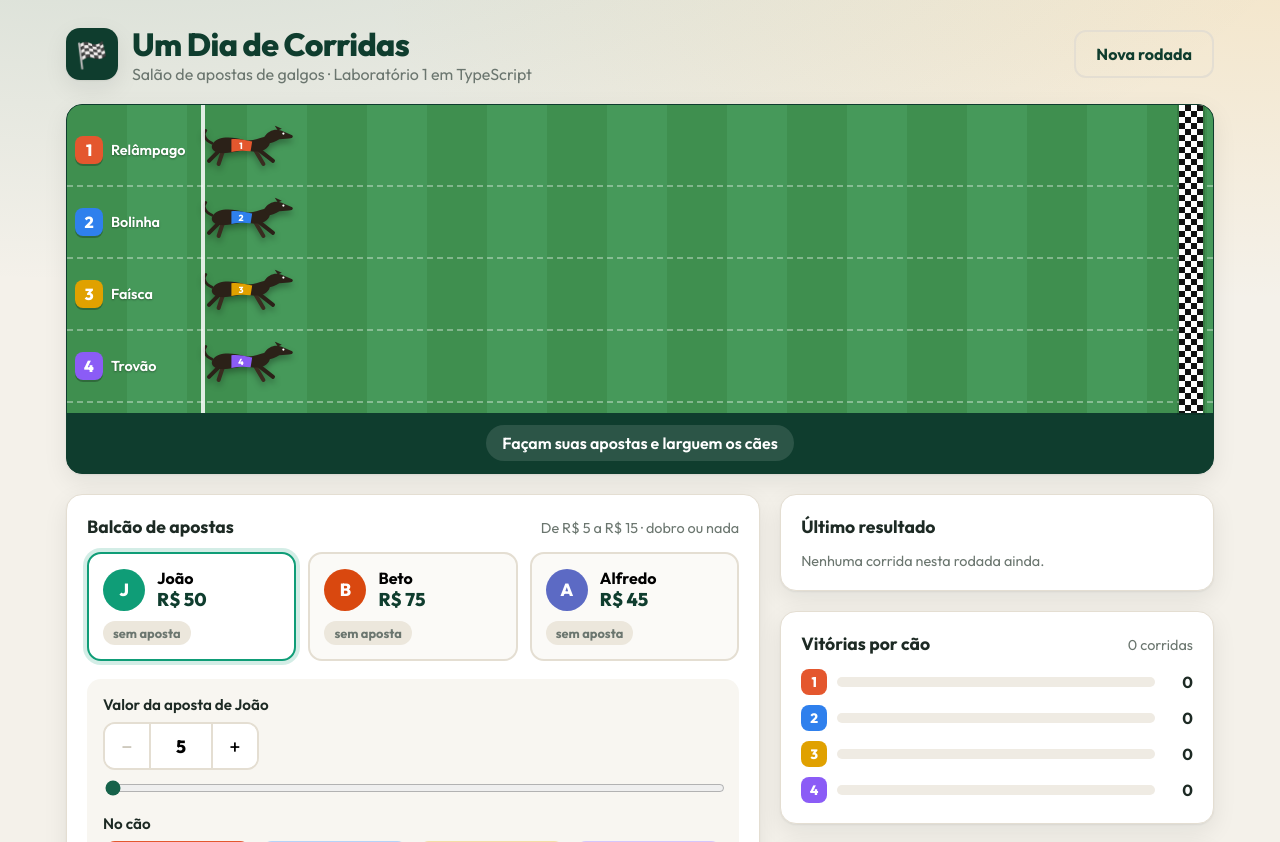
Scenario: corrida › "Nova rodada" devolve os saldos iniciais e limpa o último resultado
Click the radio button labelled "J João R$ 50 sem aposta" at (192, 606), box [87,552,296,661]
(page scrolled)
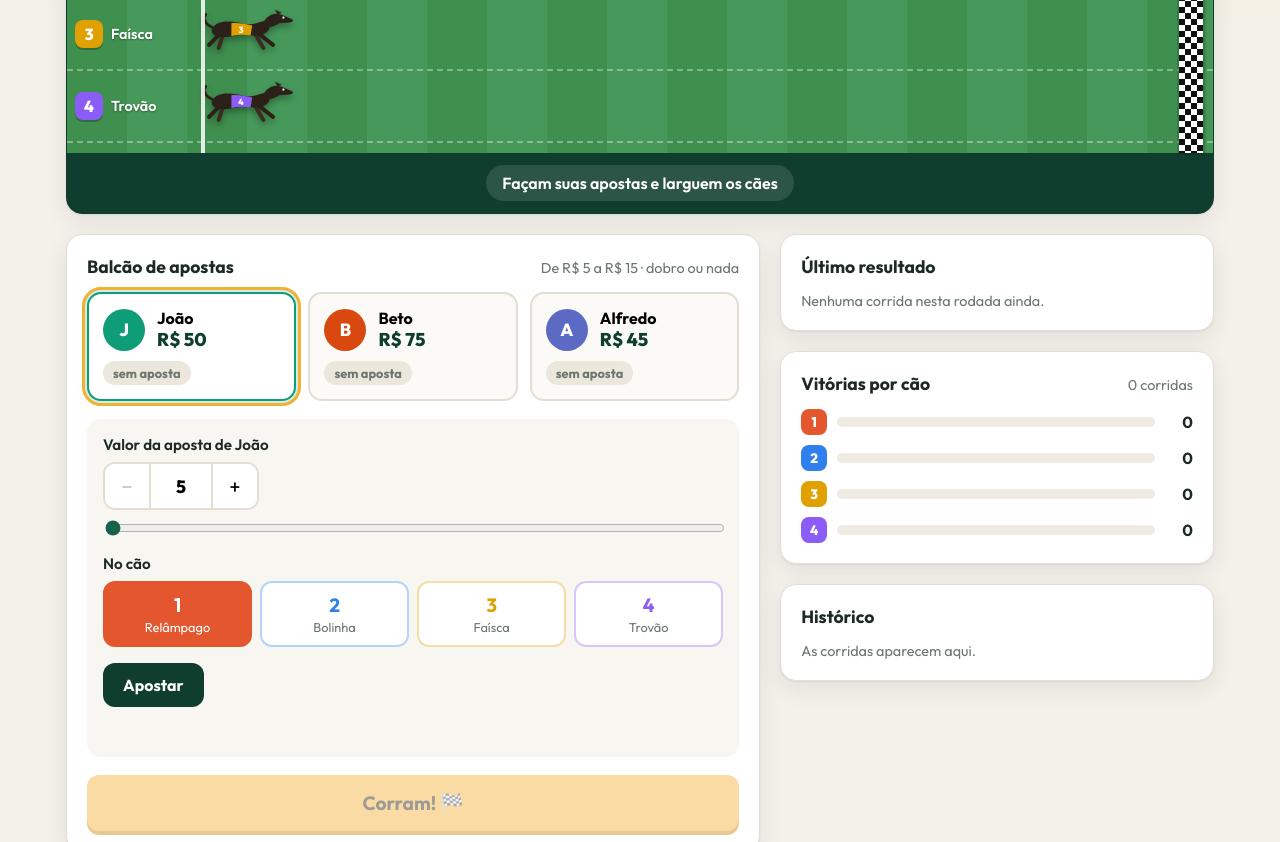
Click the radio button labelled "1 Relâmpago" at (178, 614), box [103,581,252,647]
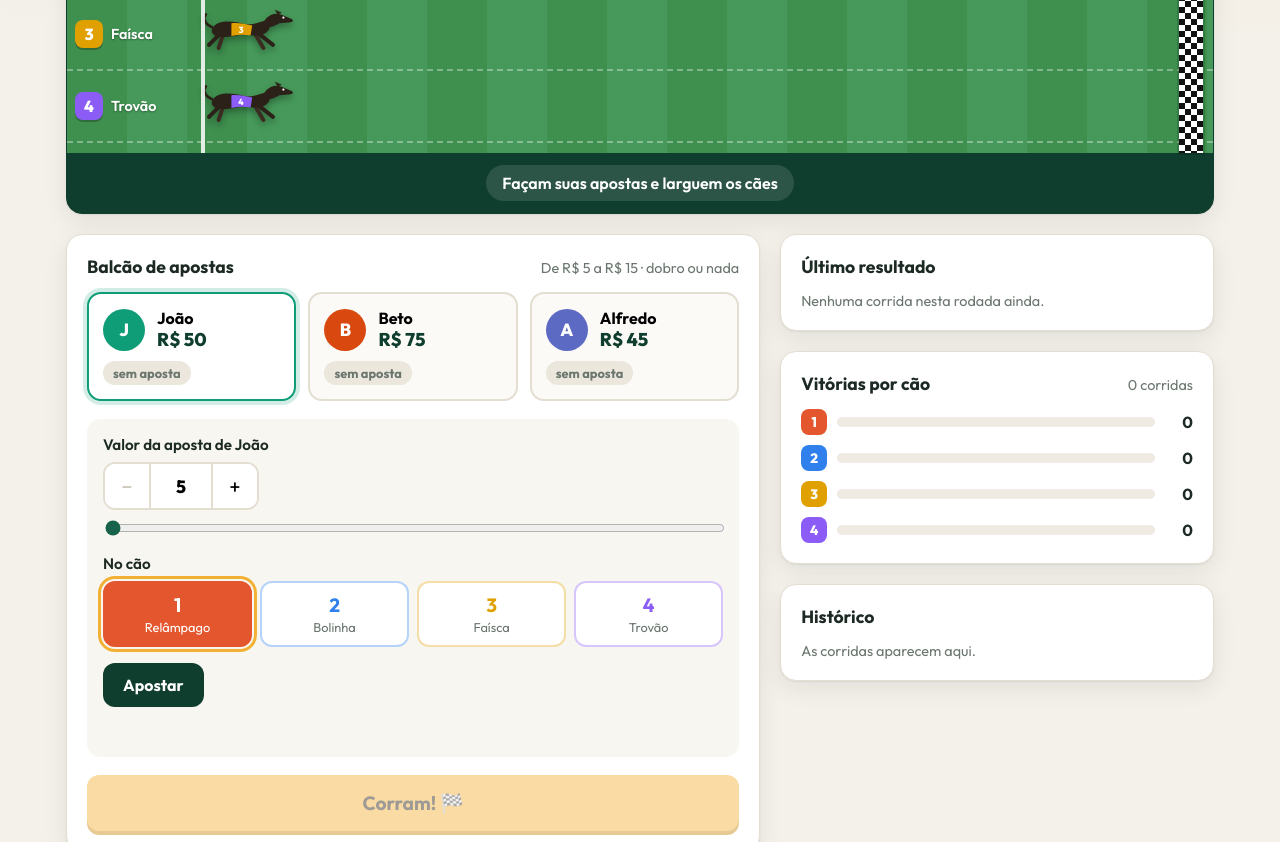
Replace the text in the number field with "15" at (181, 486), box [149,464,213,508]
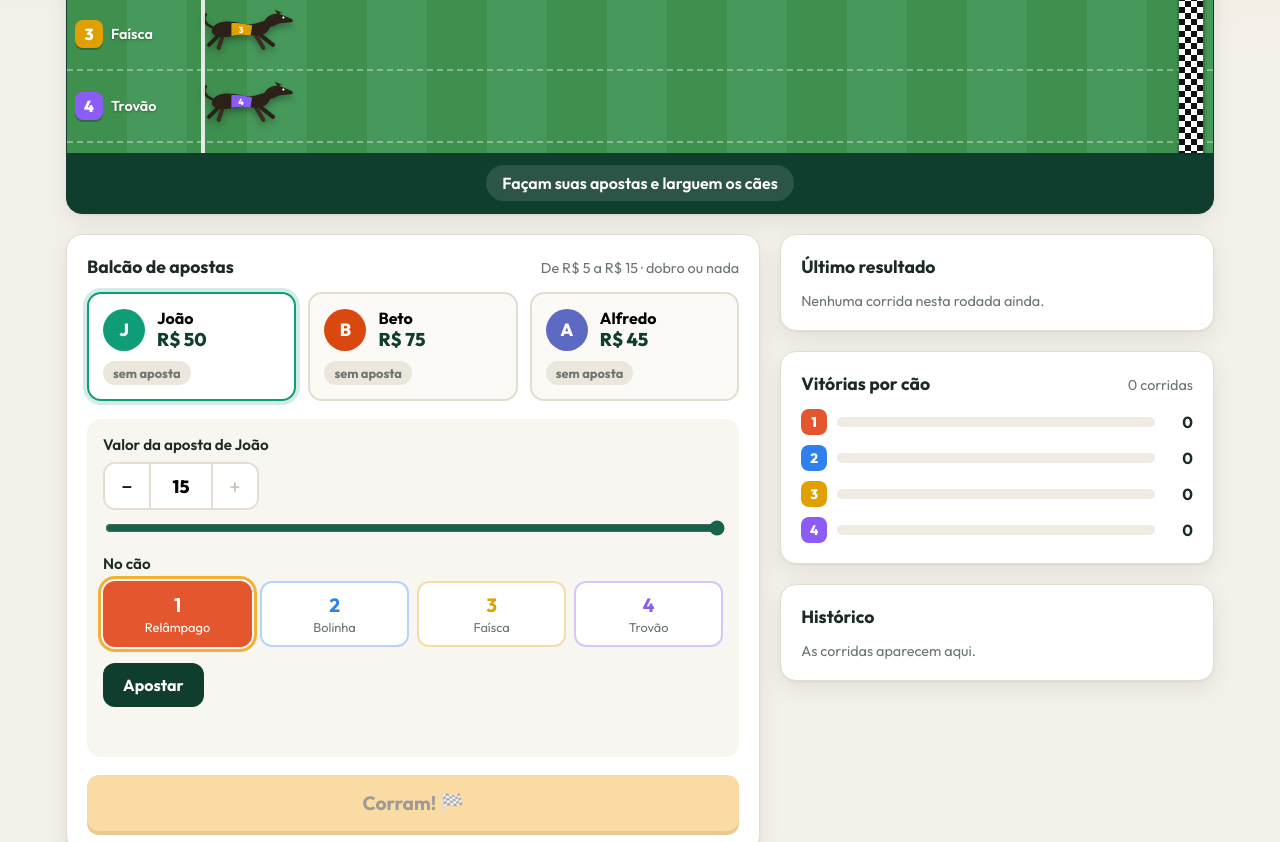
Click the button "Apostar" at (153, 685), box [103,663,204,707]
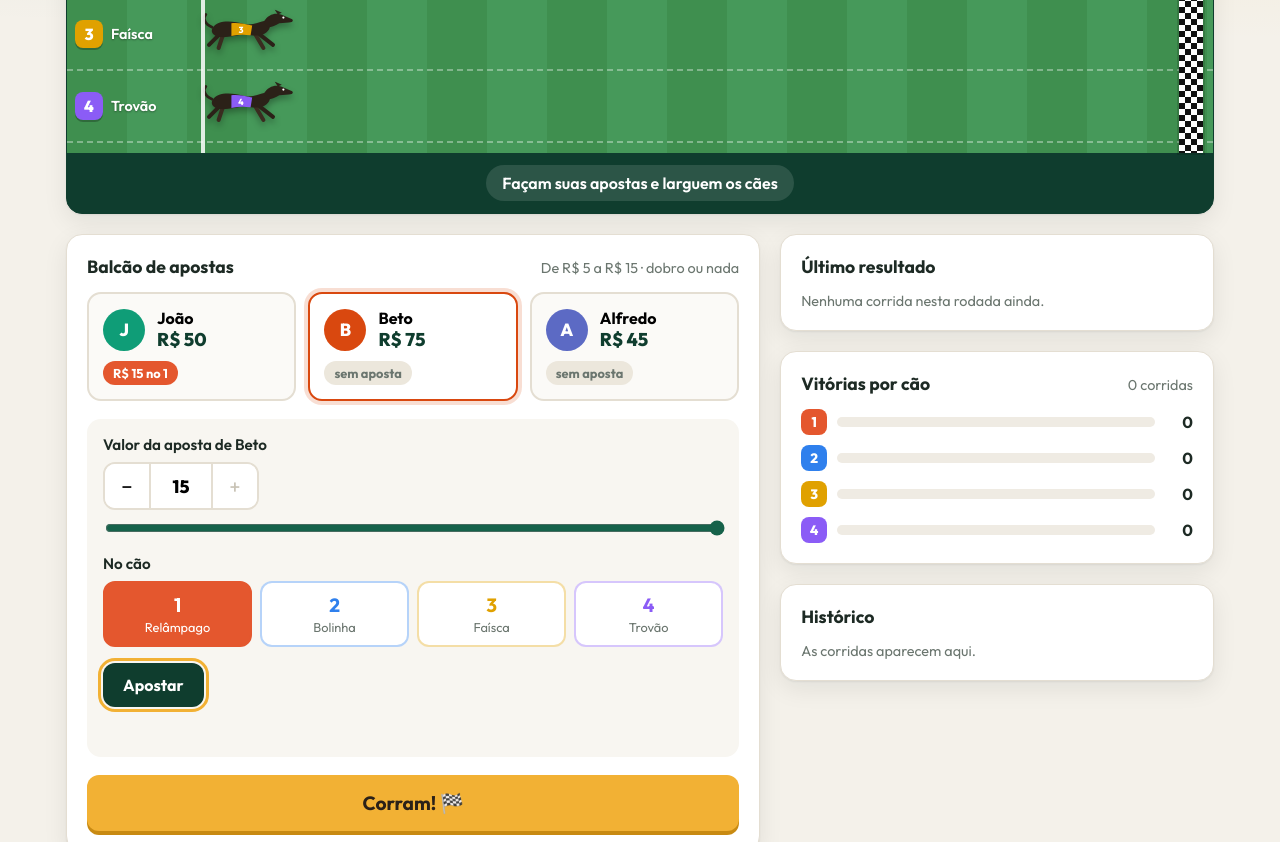
Click the button "Corram! 🏁" at (413, 803), box [87,775,739,831]
Wait 3000 ms
(page scrolled)
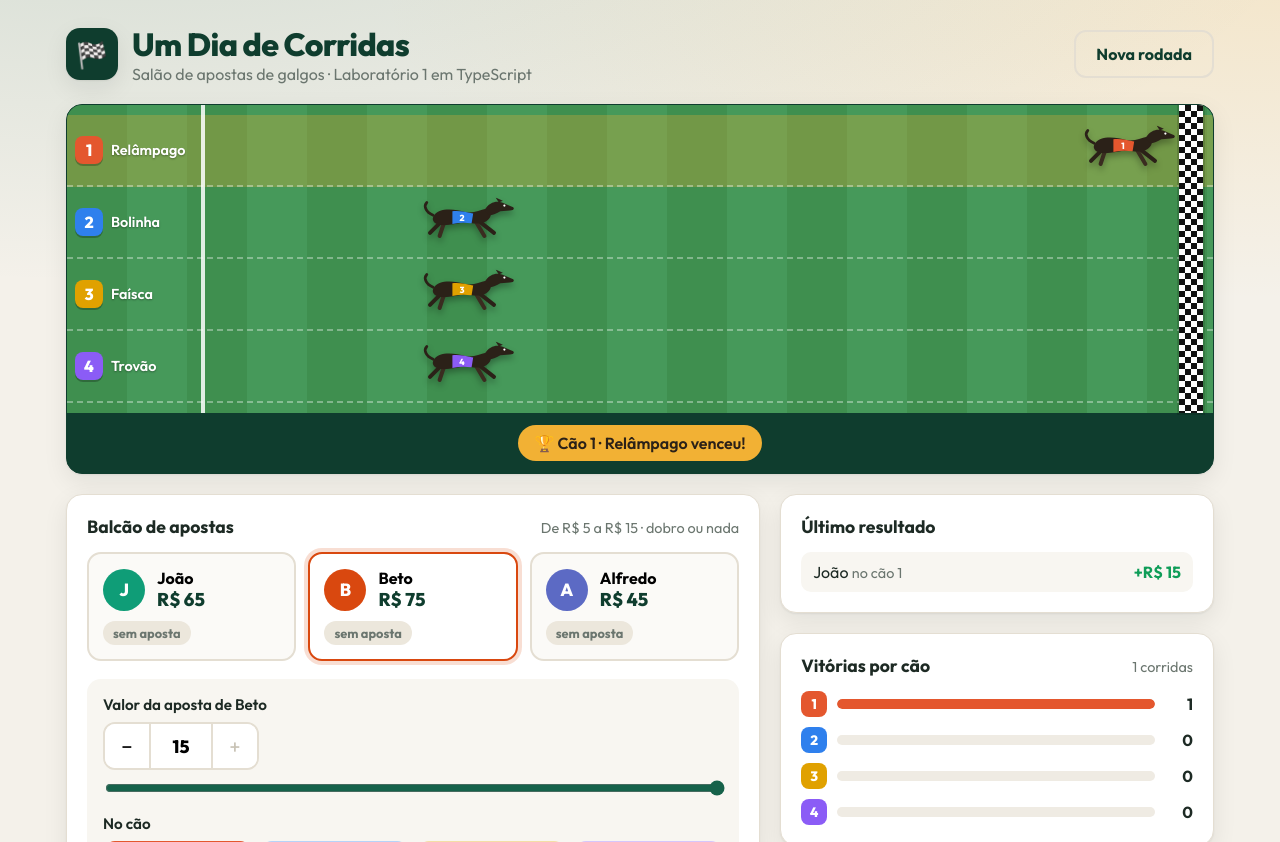
Result: the radio button labelled "J João R$ 65 sem aposta" is shown at [87,552,296,661]
Click the button "Nova rodada" at (1144, 54), box [1074,30,1214,78]
(page scrolled)
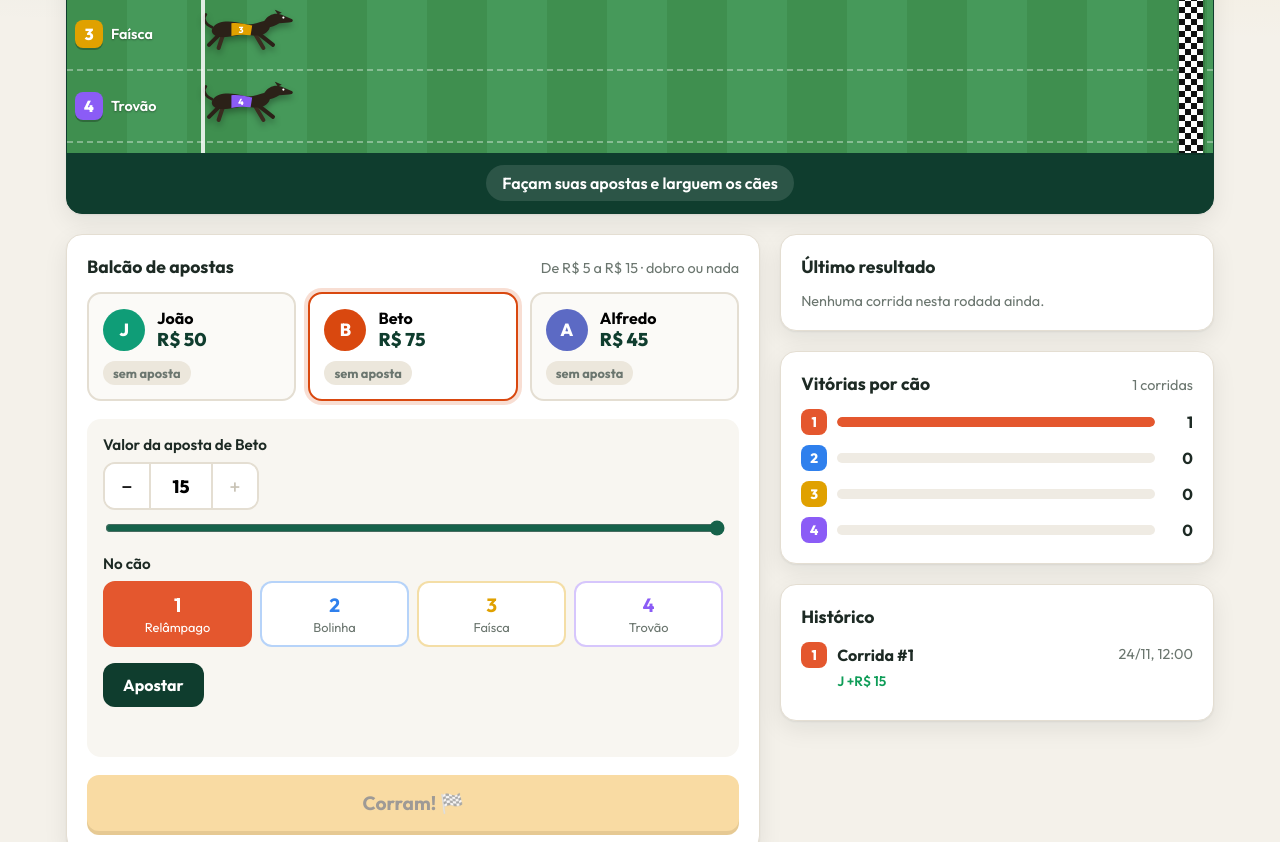
Result: the button "Corram! 🏁" is disabled at [87,775,739,831]
Result: the radio button labelled "J João R$ 50 sem aposta" is shown at [87,292,296,401]
Result: the text "Nenhuma corrida nesta rodada ainda." is shown at [801,292,1044,310]
